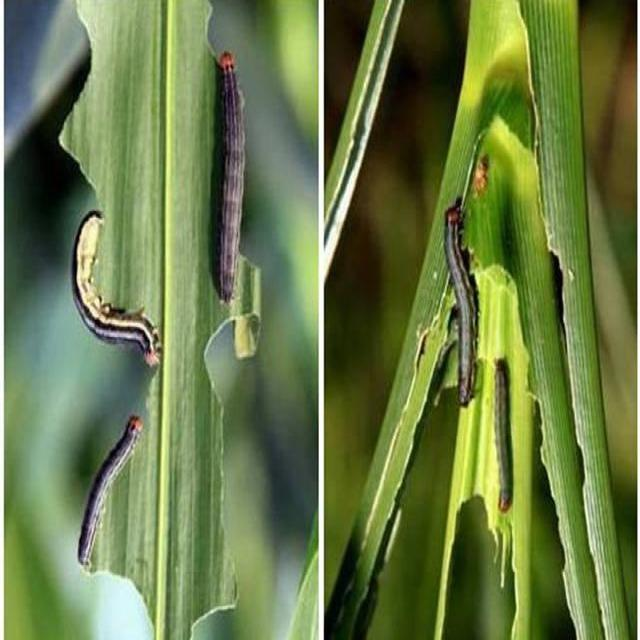army worm: (71, 207, 162, 376), (205, 52, 246, 307), (80, 407, 139, 575), (442, 202, 481, 413), (484, 356, 522, 518)
